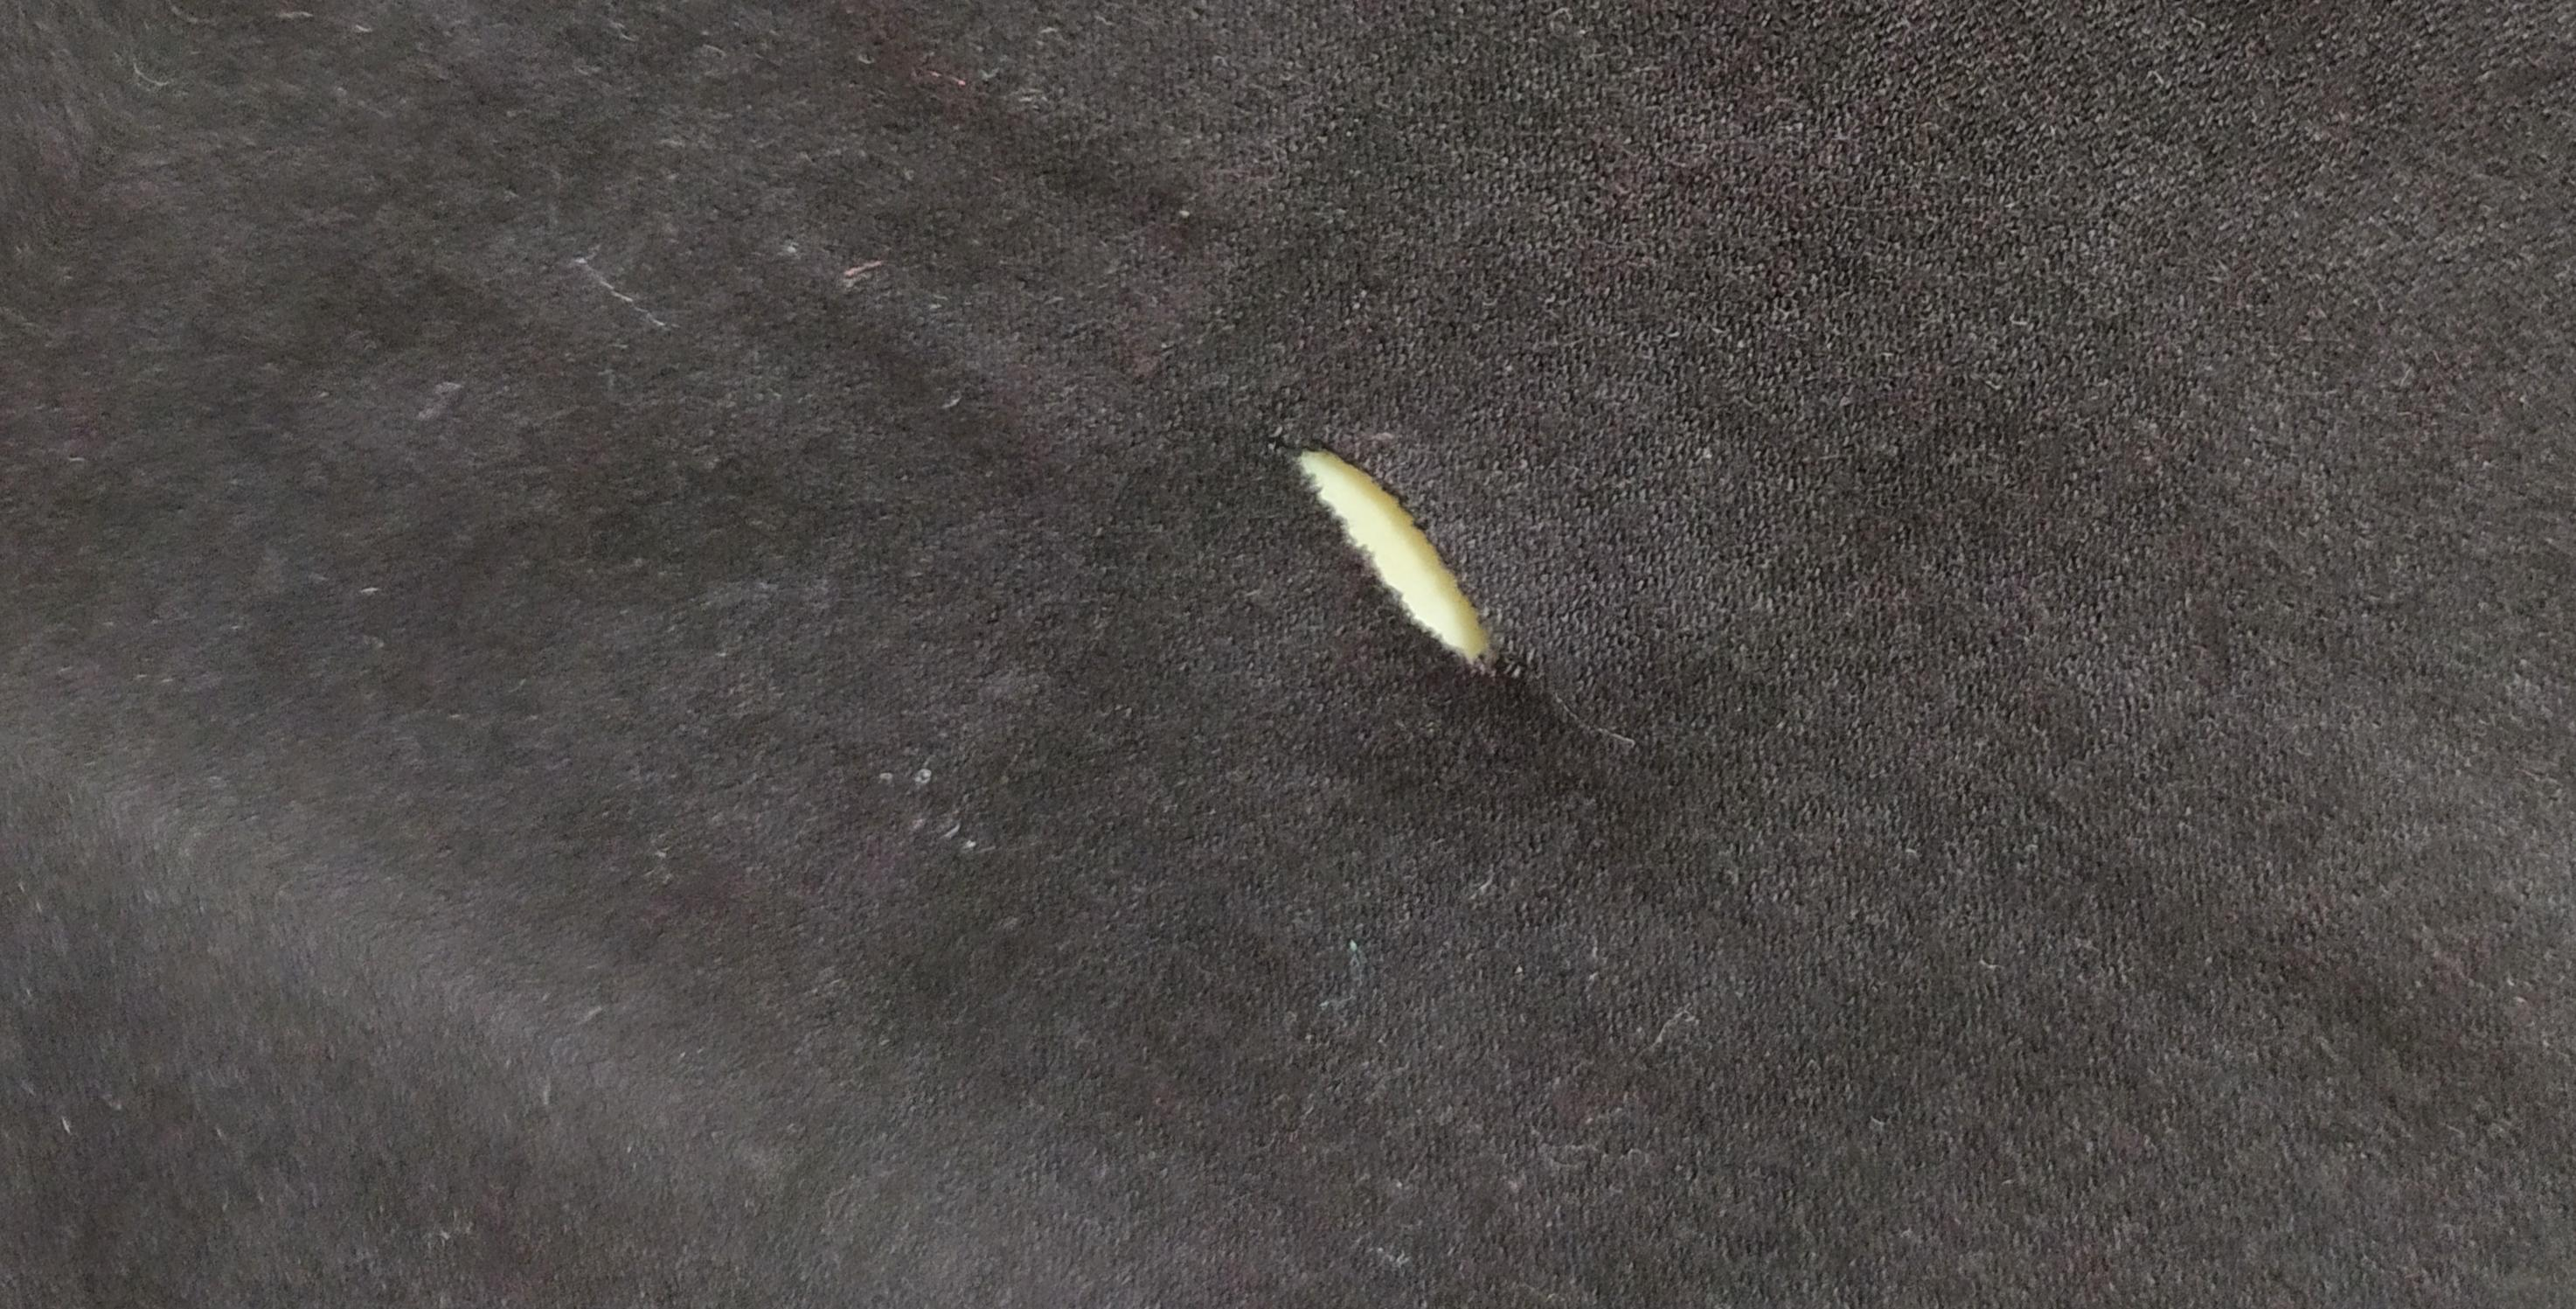hole: (1271, 412, 1543, 736)
